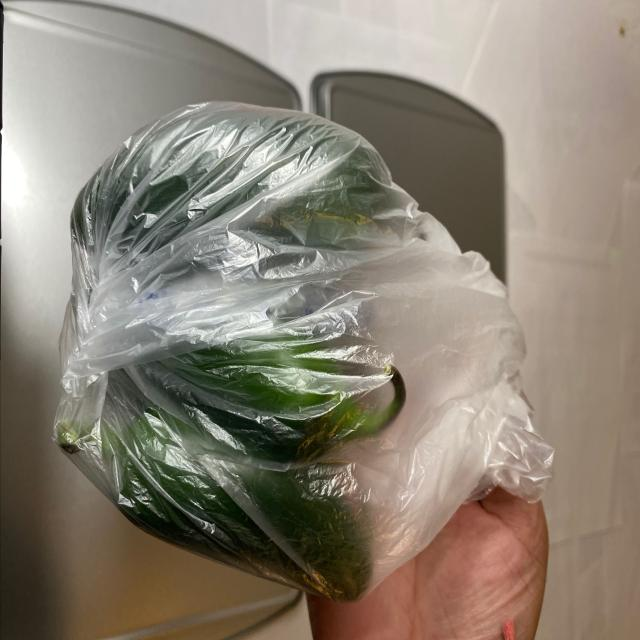chilli: (56, 102, 426, 614)
